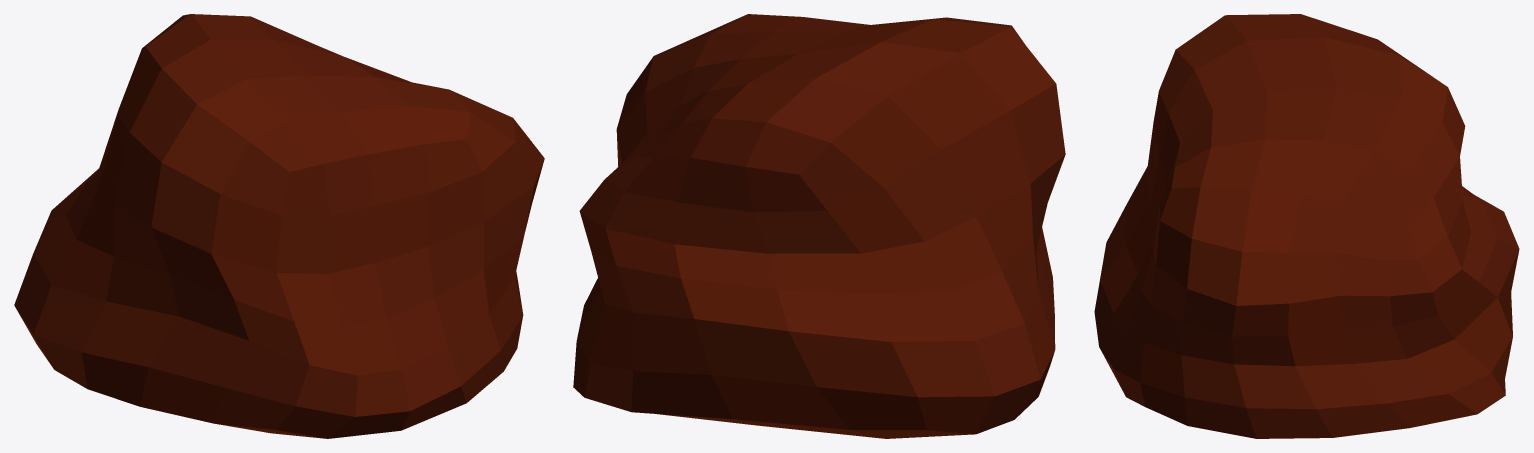
File: redRock.fbx
The picture shows the model from 3 angles, left to right: view 1: azimuth 30°, elevation 25°; view 2: azimuth 150°, elevation 25°; view 3: azimuth 270°, elevation 25°; orthographic projection. The views are drawn at different scales.
Visible parts, largest first — view 1: redRock; view 2: redRock; view 3: redRock.
Boxes of the visible parts, left/top/right/bottom form: redRock: left=14, top=14, right=544, bottom=438; redRock: left=573, top=14, right=1065, bottom=438; redRock: left=1094, top=14, right=1519, bottom=438.
Size of the model in its own units: 218 by 157 by 195.
